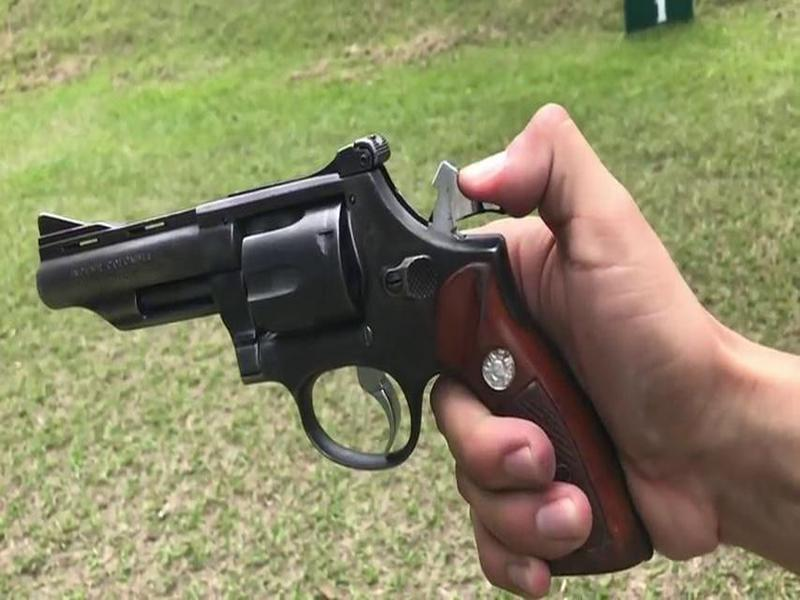Revolver: (21, 119, 641, 576)
